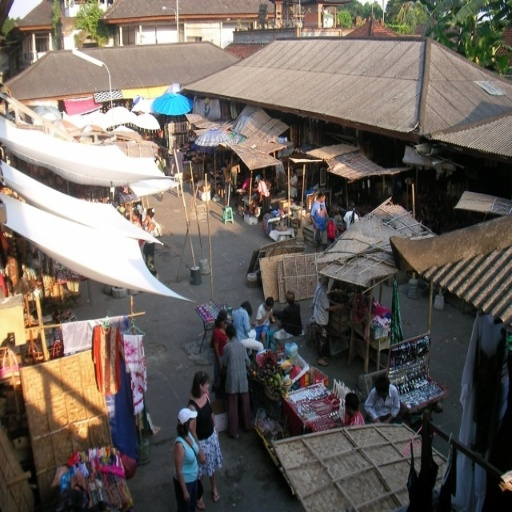hand: (198, 451, 204, 467), (182, 491, 188, 501)
